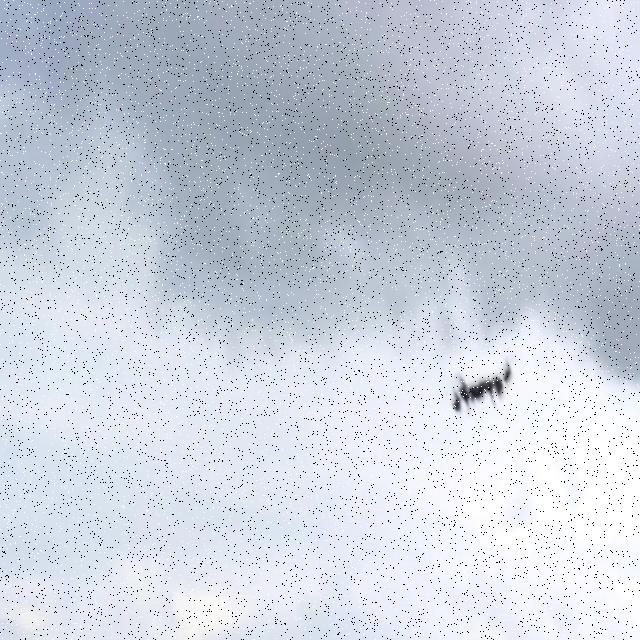UAV: (451, 362, 512, 413)
